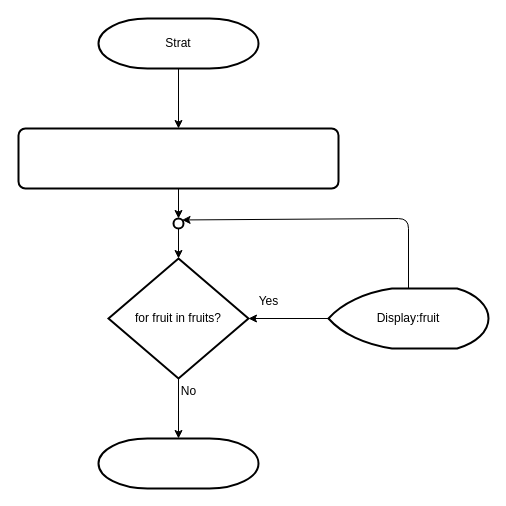
This 506x506 diagram has some shape labels left out. Each missing label, with the centre of its shape:
fruits = ["apple","banana","cherry"]: pixel 178 158
Stop: pixel 178 463
